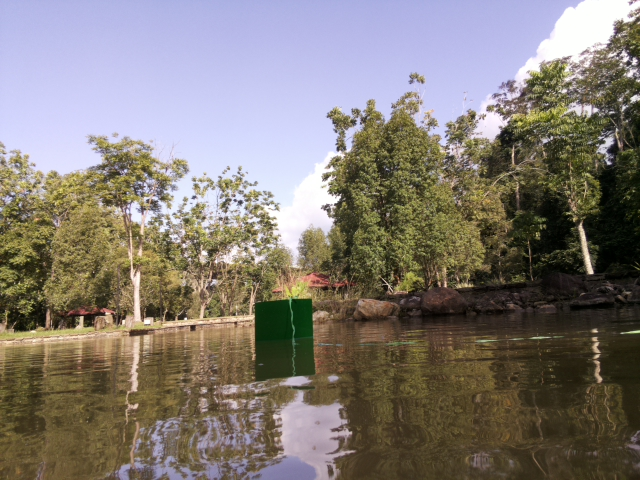obstacle: (252, 296, 314, 341)
